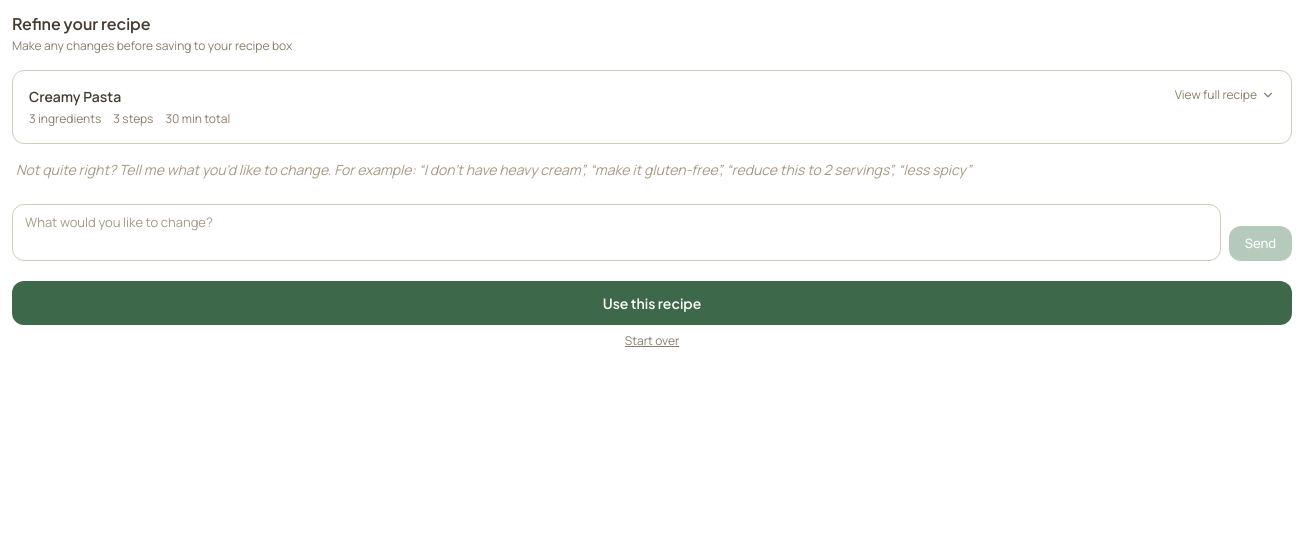
Scenario: T25 - "View full recipe" expand/collapse › hides full recipe when the collapse button is clicked
Click the button "View full recipe": (1225, 95) [1175,87,1275,103]
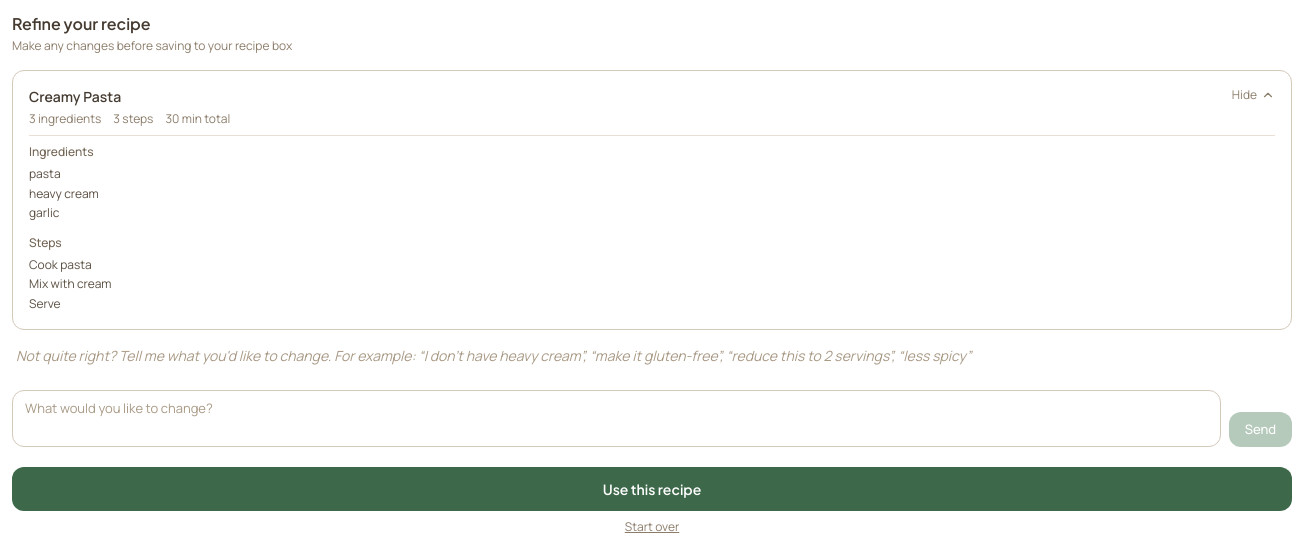
Expected: the button with aria-label "Collapse recipe" is shown
Click the button with aria-label "Collapse recipe": (1253, 95) [1232,87,1275,103]
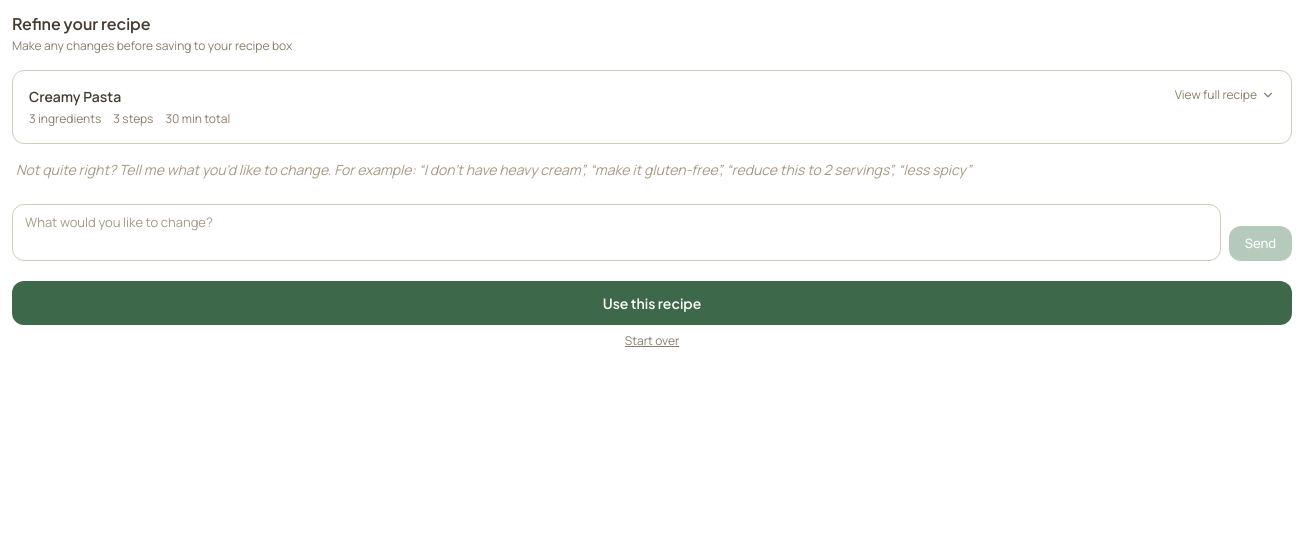
Expected: the button "View full recipe" is shown, [1175,87,1275,103]
